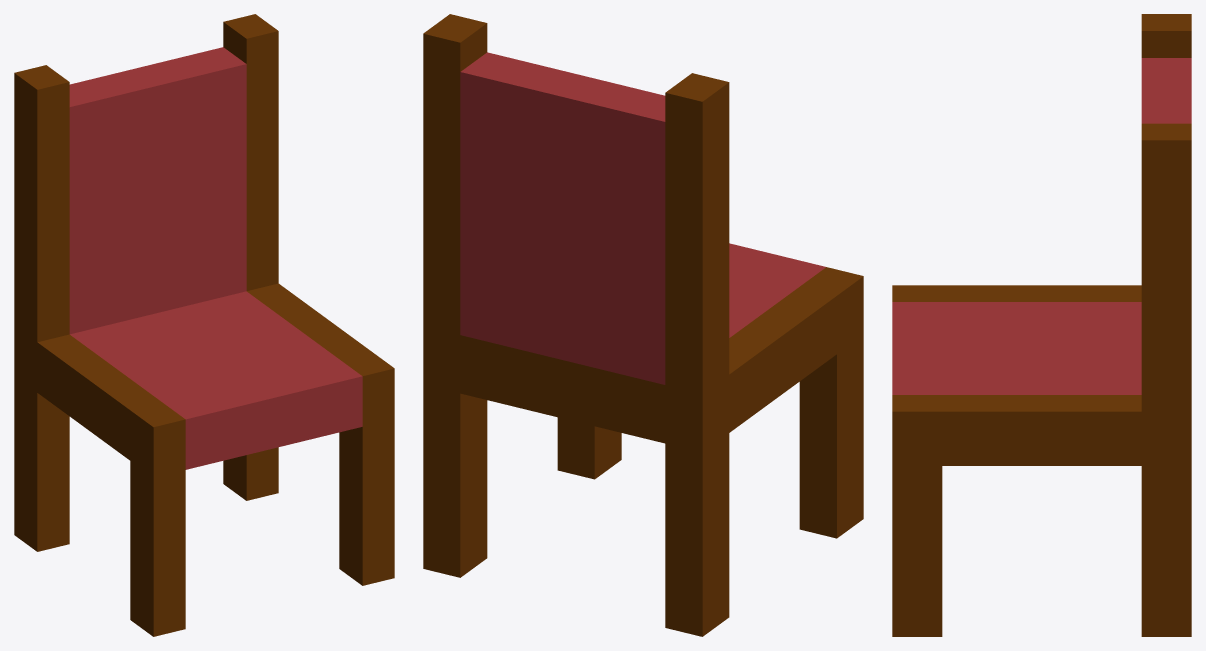
Rendered from Chair_1.fbx.
3 renders of one model, left to right at view 1: azimuth 30°, elevation 25°; view 2: azimuth 150°, elevation 25°; view 3: azimuth 270°, elevation 25°, orthographic. The views are drawn at different scales.
Visible parts, largest first — view 1: Cube.005, Cube, Cube.001, Cube.002, Cube.003, Cube.004; view 2: Cube.005, Cube, Cube.003, Cube.004, Cube.001, Cube.002; view 3: Cube, Cube.005, Cube.002, Cube.004.
Boxes of the visible parts, x1=… form: Cube.005: x1=14, y1=14, x2=278, y2=342; Cube: x1=14, y1=283, x2=394, y2=477; Cube.001: x1=130, y1=461, x2=185, y2=636; Cube.002: x1=339, y1=419, x2=394, y2=585; Cube.003: x1=14, y1=376, x2=69, y2=551; Cube.004: x1=223, y1=447, x2=278, y2=500; Cube.005: x1=423, y1=14, x2=729, y2=393; Cube: x1=423, y1=243, x2=863, y2=452; Cube.003: x1=665, y1=433, x2=729, y2=636; Cube.004: x1=423, y1=384, x2=487, y2=577; Cube.001: x1=799, y1=335, x2=863, y2=538; Cube.002: x1=557, y1=417, x2=621, y2=479; Cube: x1=892, y1=285, x2=1191, y2=465; Cube.005: x1=1141, y1=14, x2=1191, y2=411; Cube.002: x1=892, y1=466, x2=942, y2=636; Cube.004: x1=1141, y1=466, x2=1191, y2=636.
Bounding box in the file's own units: 153 × 280 × 153.
